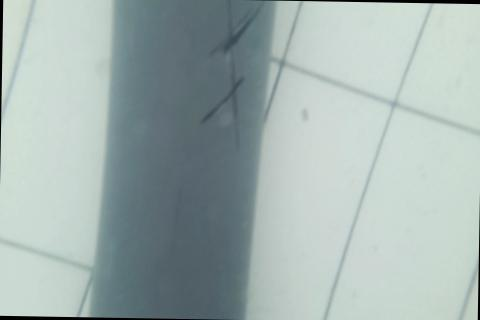keretakan: (199, 0, 266, 153)
